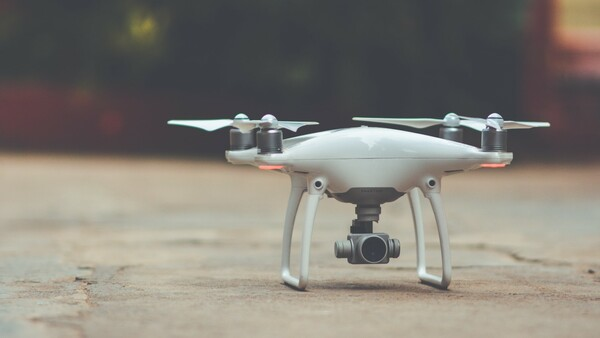drone: (165, 111, 552, 294)
